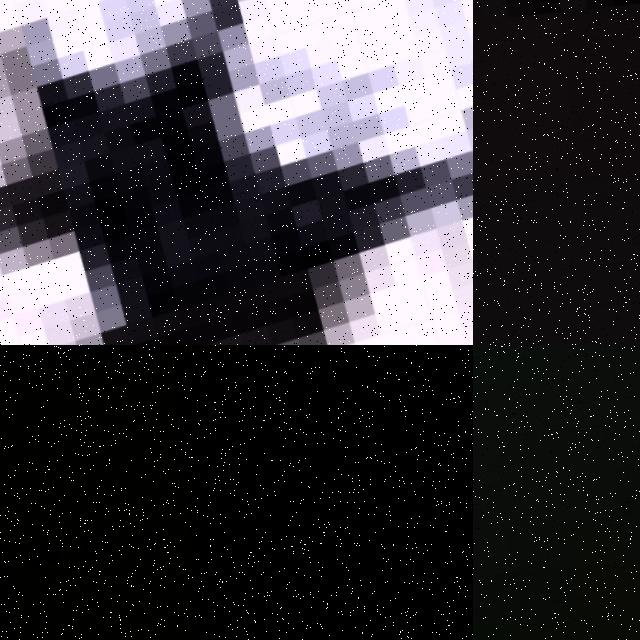drone: (0, 0, 473, 345)
